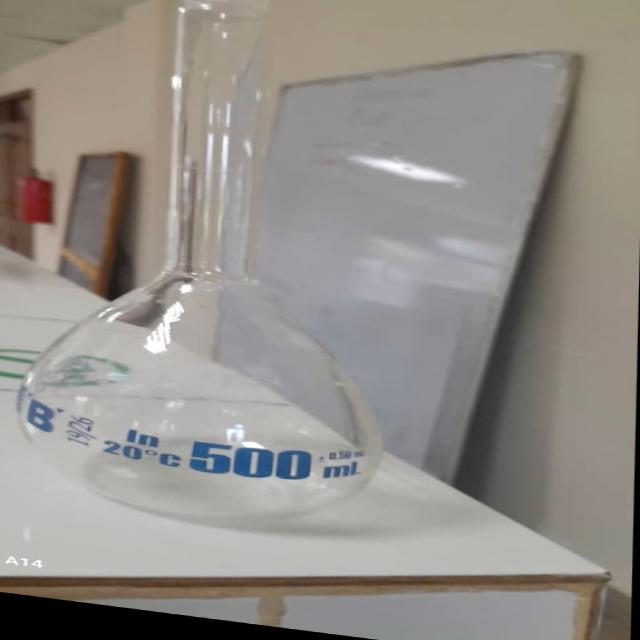Volumetric flask: (10, 0, 408, 548)
